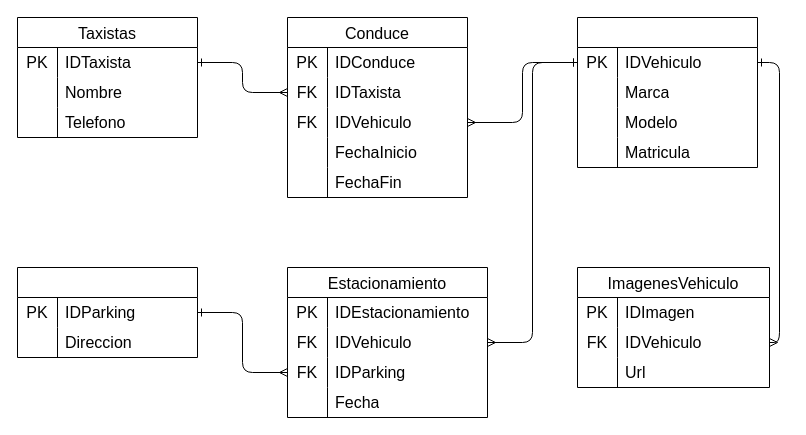
This 806x435 diagram has some shape labels left out. Each missing label, with the box of its shape:
Parkings: (16, 266, 198, 358)
Vehiculos: (576, 16, 758, 168)
